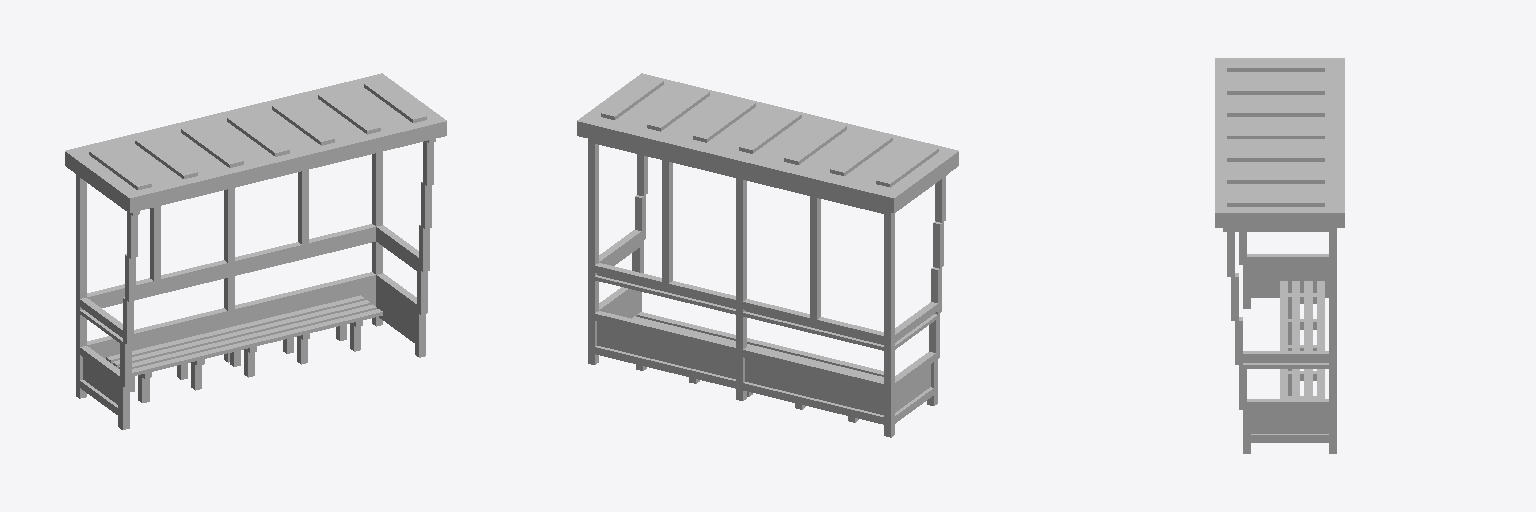
The model's file is Street Bus Stop.obj.
3 views of the same model, side by side, from view 1: azimuth 30°, elevation 25°; view 2: azimuth 150°, elevation 25°; view 3: azimuth 270°, elevation 25° (orthographic).
Visible parts, largest first — view 1: object 1; view 2: object 1; view 3: object 1.
Boxes of the visible parts, x1,y1,x2,y2 form: object 1: [65, 73, 446, 429]; object 1: [577, 73, 958, 437]; object 1: [1215, 58, 1344, 453].
Bounding box in the file's own units: 9 × 6.7 × 3.2.